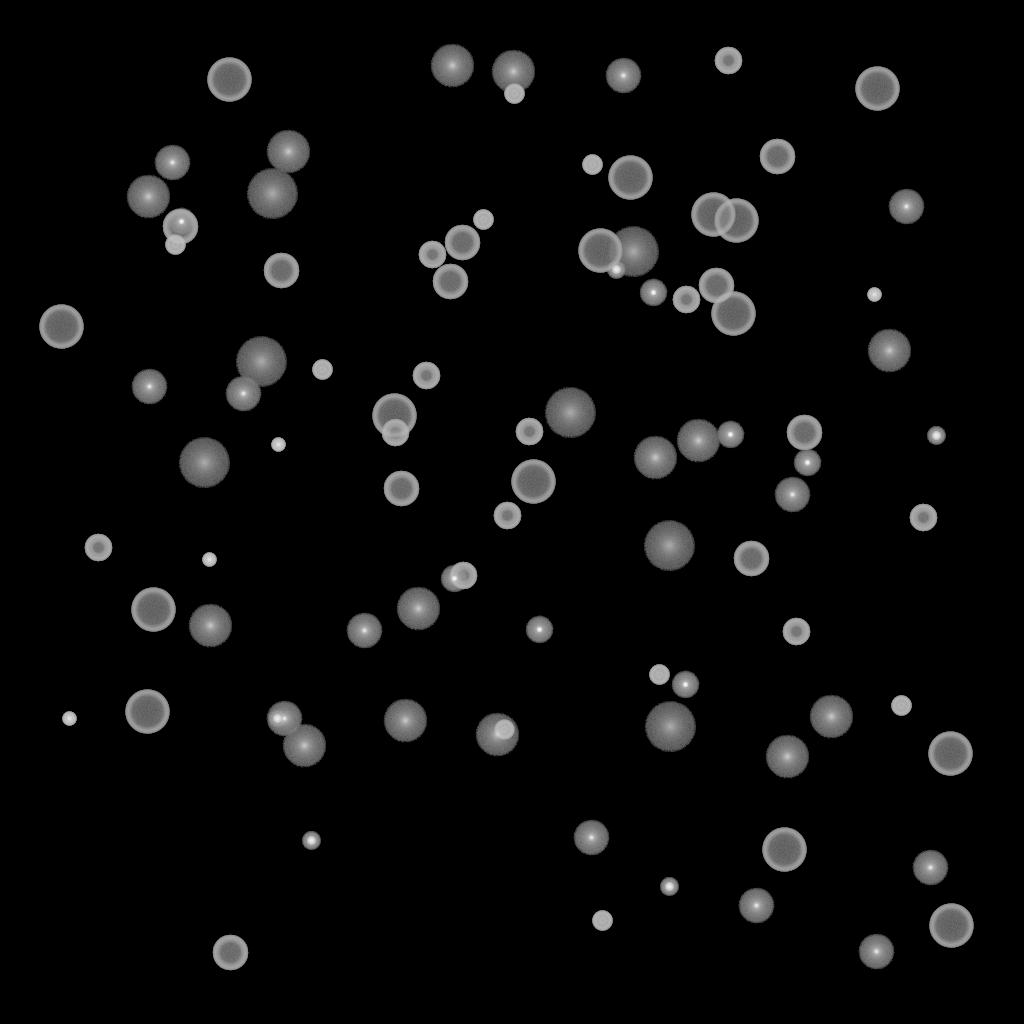depth:-10: (440, 565, 468, 593), (716, 421, 744, 449), (639, 279, 667, 307), (525, 616, 553, 644), (793, 449, 821, 477), (671, 671, 699, 699), (167, 208, 195, 236)
depth:-20: (607, 261, 625, 279), (927, 427, 945, 445), (302, 832, 320, 850), (660, 878, 678, 896), (268, 710, 286, 728)
depth:-30: (62, 712, 76, 726), (867, 288, 881, 302), (271, 438, 285, 452), (202, 553, 216, 567)
depth:-40: (582, 155, 602, 175), (473, 210, 493, 230), (165, 235, 185, 255), (592, 911, 612, 931), (891, 696, 911, 716), (649, 665, 669, 685), (504, 84, 524, 104), (494, 720, 514, 740), (312, 360, 332, 380)
depth:-50: (515, 418, 543, 446), (909, 504, 937, 532), (381, 419, 409, 447), (418, 241, 446, 269), (782, 618, 810, 646), (672, 286, 700, 314), (493, 502, 521, 530), (412, 362, 440, 390), (84, 534, 112, 562), (714, 47, 742, 75), (449, 562, 477, 590)
depth:-60: (733, 541, 769, 577), (698, 268, 734, 304), (444, 225, 480, 261), (786, 415, 822, 451), (383, 471, 419, 507), (432, 264, 468, 300), (759, 139, 795, 175), (162, 209, 198, 245), (212, 935, 248, 971), (263, 253, 299, 289)
depth:-70: (855, 67, 899, 111), (511, 460, 555, 504), (131, 588, 175, 632), (691, 193, 735, 237), (207, 58, 251, 102), (762, 828, 806, 872), (125, 690, 169, 734), (39, 305, 83, 349), (372, 394, 416, 438), (929, 904, 973, 948), (928, 732, 972, 776), (711, 292, 755, 336), (608, 156, 652, 200), (578, 229, 622, 273), (714, 199, 758, 243)
depth:0: (858, 934, 894, 970), (225, 376, 261, 412), (774, 477, 810, 513), (573, 820, 609, 856), (154, 145, 190, 181), (266, 701, 302, 737), (346, 613, 382, 649), (605, 58, 641, 94), (888, 189, 924, 225), (131, 369, 167, 405), (912, 850, 948, 886), (738, 888, 774, 924)
depth:10: (475, 713, 519, 757), (491, 50, 535, 94), (809, 695, 853, 739), (396, 587, 440, 631), (126, 175, 170, 219), (383, 699, 427, 743), (266, 130, 310, 174), (430, 44, 474, 88), (633, 436, 677, 480), (765, 735, 809, 779), (282, 724, 326, 768), (188, 604, 232, 648), (867, 329, 911, 373), (676, 419, 720, 463)
depth:20: (246, 169, 298, 219), (644, 702, 696, 752), (643, 521, 695, 571), (544, 388, 596, 438), (607, 227, 659, 277), (235, 337, 287, 387), (178, 438, 230, 488)
